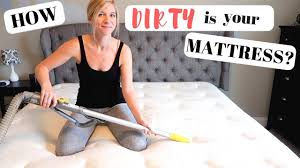bed-matress: (1, 82, 300, 168)
